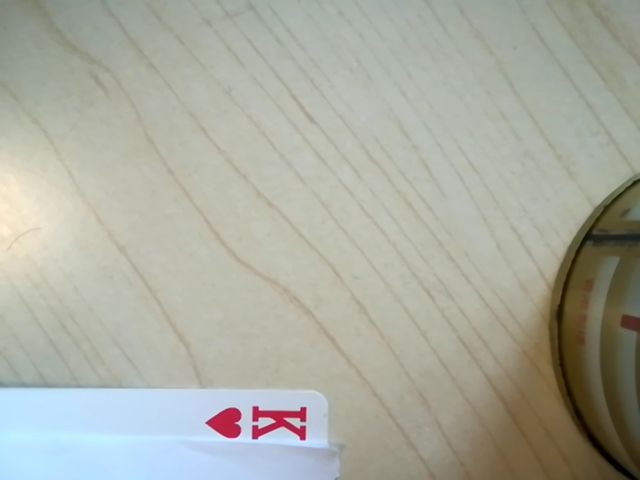hx k: (200, 395, 321, 455)
